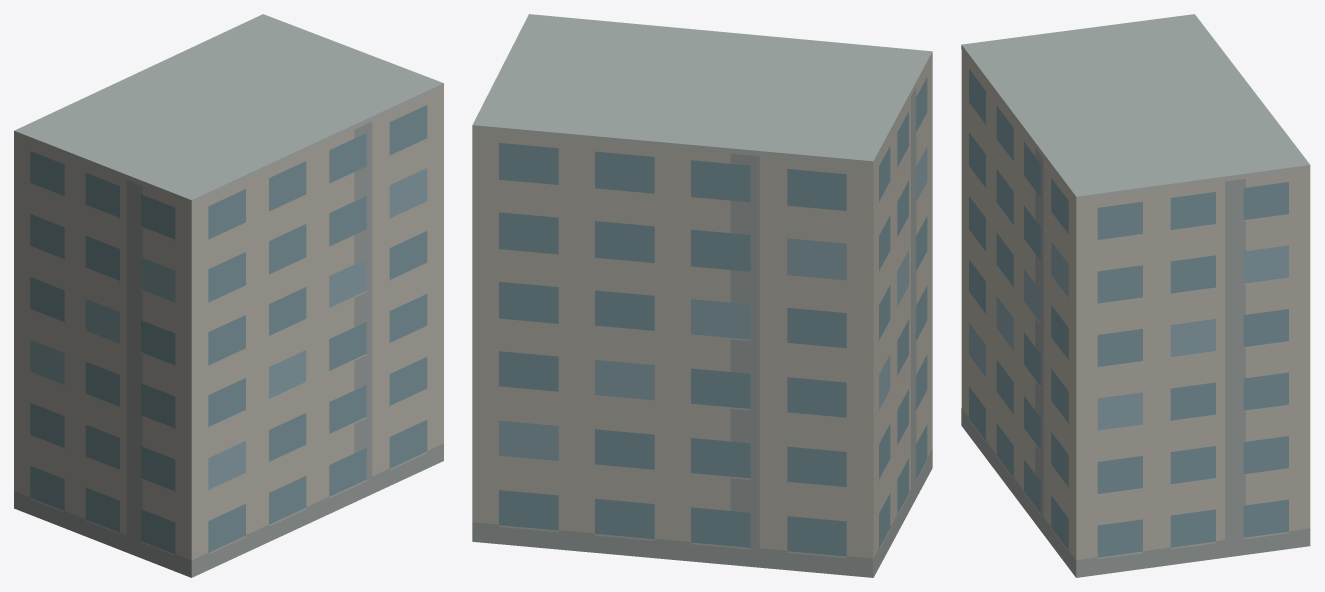
File: survey-upis-32520637.glb
3 views of the same model, side by side, from view 1: azimuth 30°, elevation 25°; view 2: azimuth 150°, elevation 25°; view 3: azimuth 270°, elevation 25° (orthographic). The views are drawn at different scales.
Parts seen in each view (by area): view 1: survey-upis-32520637.tmp; view 2: survey-upis-32520637.tmp; view 3: survey-upis-32520637.tmp.
Boxes of the visible parts, bbox=[...] form: survey-upis-32520637.tmp: bbox=[14, 14, 443, 577]; survey-upis-32520637.tmp: bbox=[472, 14, 932, 577]; survey-upis-32520637.tmp: bbox=[961, 14, 1310, 577].
Size of the model in its own units: 19.19 by 18.66 by 15.49.
